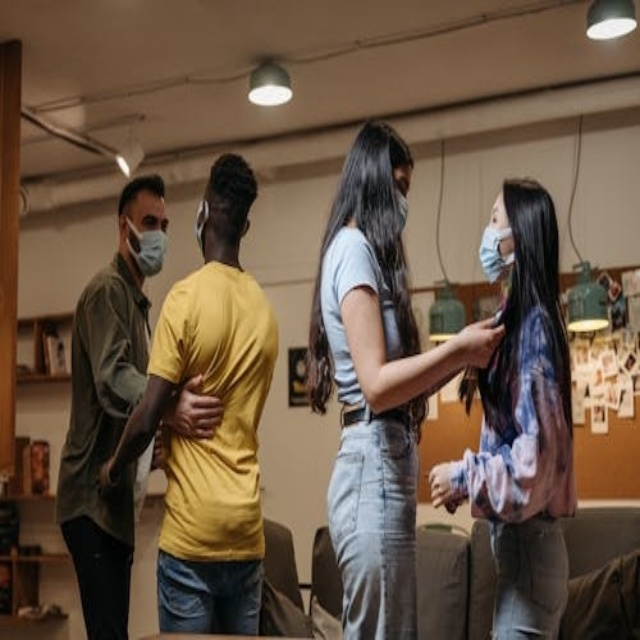Mascara: (125, 217, 166, 276), (478, 222, 516, 284), (392, 182, 410, 235), (195, 200, 209, 257)
Sin_gafas: (129, 213, 170, 234), (480, 209, 508, 232), (395, 175, 410, 200)
Sin_guantes: (452, 301, 507, 374), (170, 375, 223, 439), (429, 460, 464, 509), (97, 455, 125, 493)
